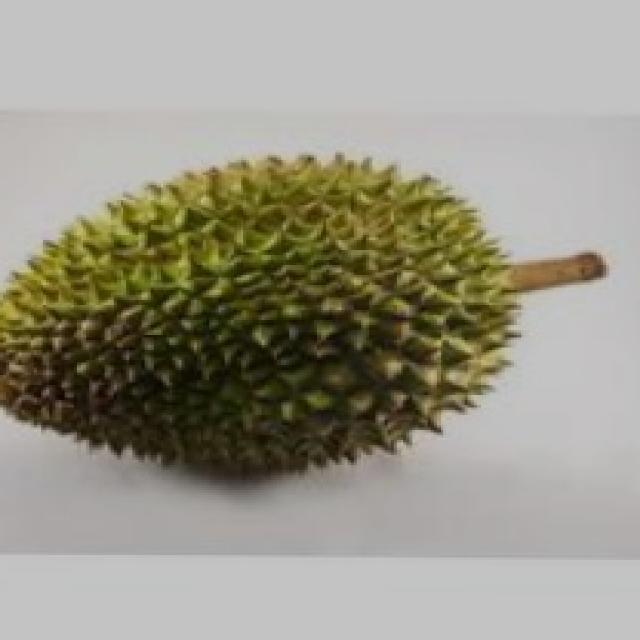fruit: (185, 117, 572, 525), (0, 115, 357, 515)
